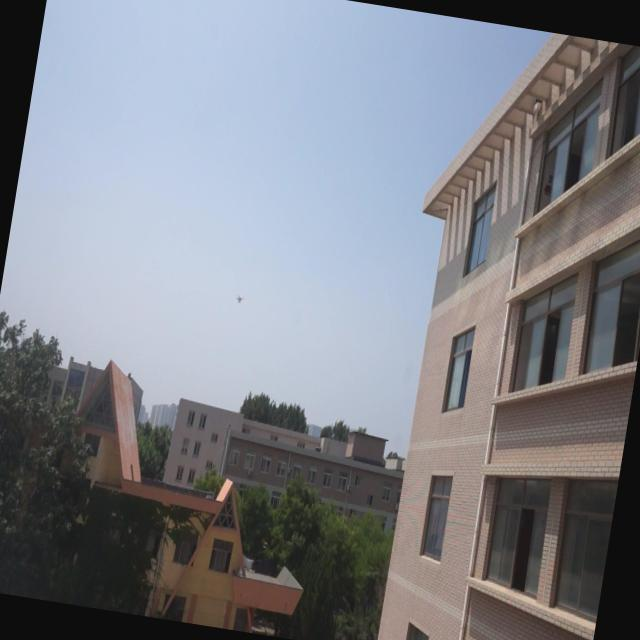drone: (234, 292, 244, 304)
